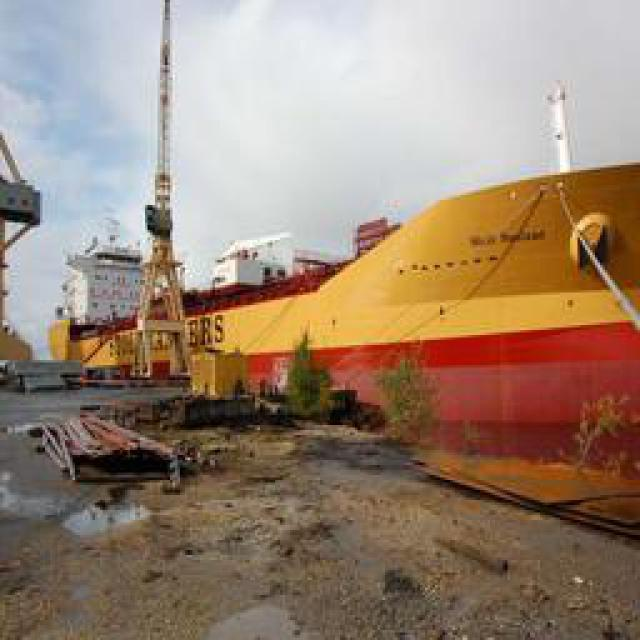Ship: (55, 85, 640, 436)
